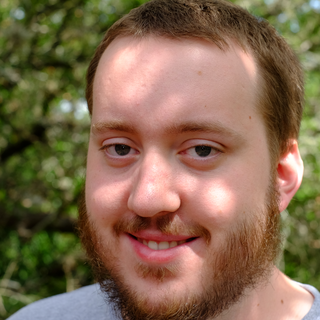eye: (178, 139, 229, 164), (99, 136, 143, 164)
